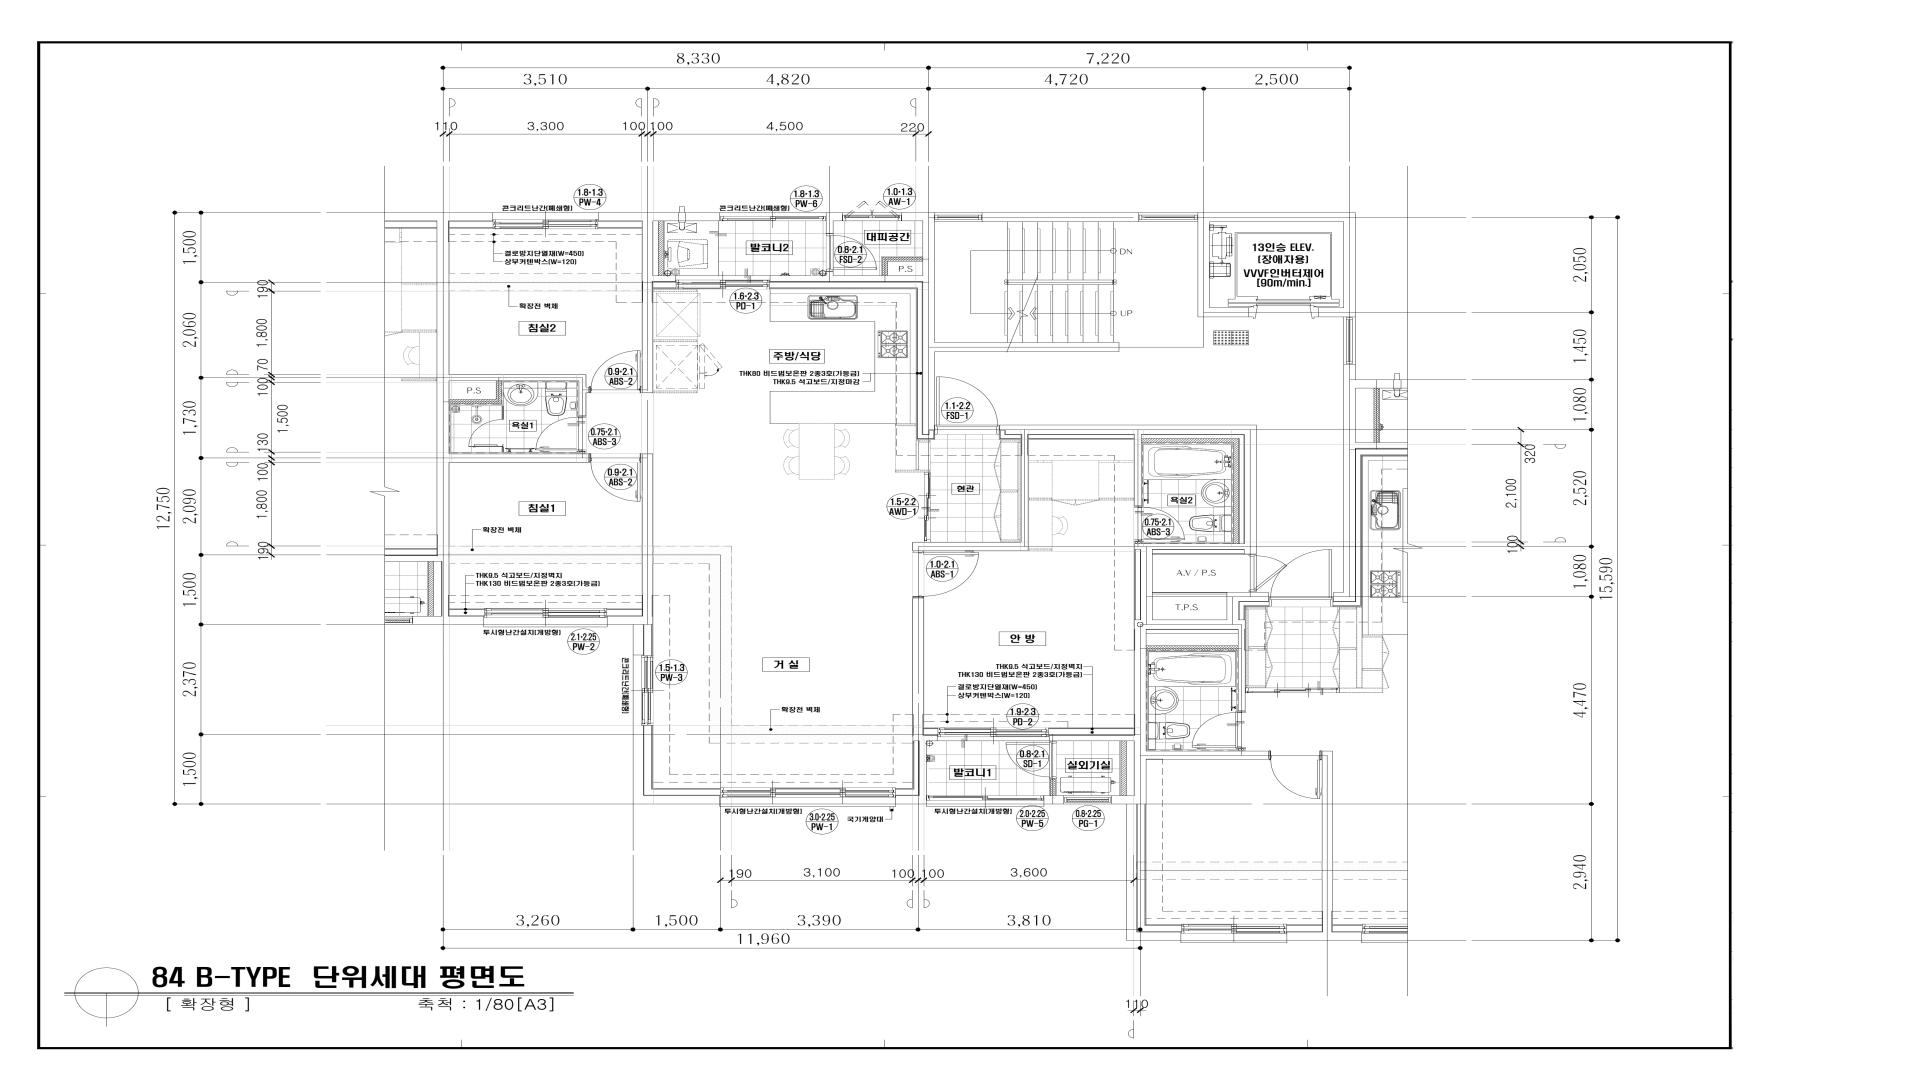door: (934, 375, 999, 434), (1268, 548, 1334, 606), (912, 550, 980, 598), (588, 454, 642, 503), (1268, 751, 1322, 799), (589, 350, 642, 393), (1191, 711, 1245, 749), (826, 233, 878, 272), (1005, 741, 1057, 779), (534, 415, 586, 453), (1134, 505, 1185, 542), (1250, 554, 1288, 592), (468, 419, 504, 447), (676, 280, 770, 289), (1245, 687, 1339, 693), (924, 472, 930, 542)
wall: (769, 281, 934, 439), (384, 212, 493, 375), (1049, 620, 1140, 804), (1198, 212, 1356, 317), (1287, 751, 1362, 941), (912, 430, 1029, 551), (1333, 448, 1408, 606), (412, 463, 484, 625), (607, 454, 653, 625), (1126, 804, 1181, 941), (633, 726, 720, 804), (449, 375, 589, 416), (896, 735, 937, 804), (1147, 624, 1242, 648), (935, 342, 1119, 352), (647, 221, 676, 282), (770, 271, 923, 282), (982, 212, 1138, 222), (913, 598, 923, 735), (901, 212, 929, 259), (999, 425, 1256, 430), (449, 454, 588, 463), (642, 281, 653, 393), (449, 381, 502, 404), (598, 212, 720, 221), (1134, 546, 1147, 625), (929, 213, 935, 347), (882, 257, 923, 276), (1250, 430, 1256, 554), (1140, 751, 1269, 756), (633, 625, 653, 655), (1239, 602, 1269, 620), (443, 375, 449, 463), (1134, 430, 1141, 505), (929, 347, 934, 430), (1146, 646, 1238, 650), (826, 212, 843, 233), (1121, 741, 1127, 795), (658, 221, 663, 276), (1238, 648, 1242, 711), (1227, 592, 1268, 597), (999, 430, 1021, 439), (1044, 796, 1064, 804), (1050, 779, 1055, 796), (502, 406, 504, 420), (502, 447, 504, 452)
window: (720, 787, 896, 797), (842, 200, 901, 221), (484, 608, 607, 618), (937, 727, 1049, 737), (1181, 924, 1287, 934), (493, 219, 598, 229), (641, 655, 653, 726), (927, 795, 1044, 801), (719, 804, 896, 807), (720, 216, 826, 221), (1362, 924, 1408, 933), (484, 624, 607, 627), (926, 804, 1044, 807), (1181, 940, 1287, 943), (1138, 215, 1198, 220), (934, 215, 982, 220), (1064, 798, 1111, 802), (1361, 940, 1408, 943)
